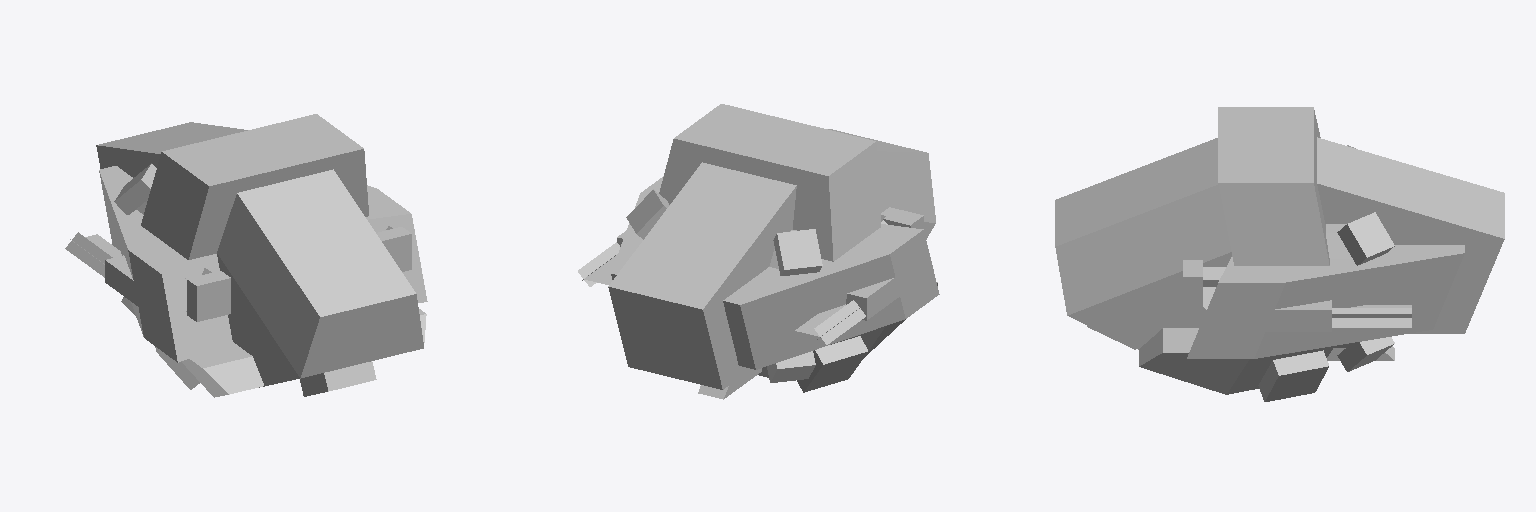
The model's file is astro_miner.obj.
3 renders of one model, left to right at view 1: azimuth 30°, elevation 25°; view 2: azimuth 150°, elevation 25°; view 3: azimuth 270°, elevation 25°, orthographic.
Parts seen in each view (by area): view 1: Hull_Rear, Hull_Top, Hull_Center, Hull_Front, Hull_Bottom, Hoverpad_Rear_Left_Glow, Hoverpad_Heavy___Glow003, Hoverpad_Front_Left_Top_Glow, Hoverpad_Rear_Right_Glow, Left_Laser_Attachment, Left_Laser_Invert, Left_Laser; view 2: Hull_Front, Hull_Top, Hull_Center, Hull_Rear, Hoverpad_Heavy___Glow001, Hoverpad_Front_Left_Top_Glow, Left_Laser, Left_Laser_Attachment, Hoverpad_Front_Right_Top_Glow, Hoverpad_Front_Left_Bottom_Glow, Right_Laser_Invert, Hull_Bottom (+1 smaller); view 3: Hull_Rear, Hull_Center, Hull_Front, Hull_Top, Hull_Bottom, Hoverpad_Heavy___Glow002, Hoverpad_Front_Right_Top_Glow, Right_Laser_Attachment, Right_Laser_Invert, Hoverpad_Attachment, Hoverpad_Front_Right_Bottom_Glow, Hoverpad_Rear_Right_Glow.
Boxes of the visible parts, <box> form: Hull_Rear: <box>217,169,423,387</box>; Hull_Top: <box>141,114,368,259</box>; Hull_Center: <box>99,166,427,362</box>; Hull_Front: <box>96,122,247,177</box>; Hull_Bottom: <box>181,309,426,397</box>; Hoverpad_Rear_Left_Glow: <box>187,271,230,321</box>; Hoverpad_Heavy___Glow003: <box>300,361,376,396</box>; Hoverpad_Front_Left_Top_Glow: <box>114,163,156,214</box>; Hoverpad_Rear_Right_Glow: <box>376,227,411,271</box>; Left_Laser_Attachment: <box>105,255,137,305</box>; Left_Laser_Invert: <box>67,233,120,275</box>; Left_Laser: <box>65,232,121,277</box>; Hull_Front: <box>608,162,796,389</box>; Hull_Top: <box>659,104,880,261</box>; Hull_Center: <box>611,176,939,369</box>; Hull_Rear: <box>828,129,935,239</box>; Hoverpad_Heavy___Glow001: <box>797,336,868,392</box>; Hoverpad_Front_Left_Top_Glow: <box>773,229,822,275</box>; Left_Laser: <box>795,302,865,343</box>; Left_Laser_Attachment: <box>846,277,899,320</box>; Hoverpad_Front_Right_Top_Glow: <box>626,189,669,239</box>; Hoverpad_Front_Left_Bottom_Glow: <box>767,351,815,382</box>; Right_Laser_Invert: <box>578,242,619,286</box>; Hull_Bottom: <box>758,282,937,377</box>; Hull_Rear: <box>1055,138,1231,349</box>; Hull_Center: <box>1187,245,1464,358</box>; Hull_Front: <box>1317,137,1504,333</box>; Hull_Top: <box>1218,107,1329,265</box>; Hull_Bottom: <box>1139,328,1334,394</box>; Hoverpad_Heavy___Glow002: <box>1258,350,1328,401</box>; Hoverpad_Front_Right_Top_Glow: <box>1337,212,1394,265</box>; Right_Laser_Attachment: <box>1266,300,1331,331</box>; Right_Laser_Invert: <box>1332,305,1411,327</box>; Hoverpad_Attachment: <box>1203,224,1352,347</box>; Hoverpad_Front_Right_Bottom_Glow: <box>1337,337,1394,371</box>; Hoverpad_Rear_Right_Glow: <box>1183,260,1202,312</box>.
Bounding box in the file's own units: 36.25 × 30.79 × 56.5.